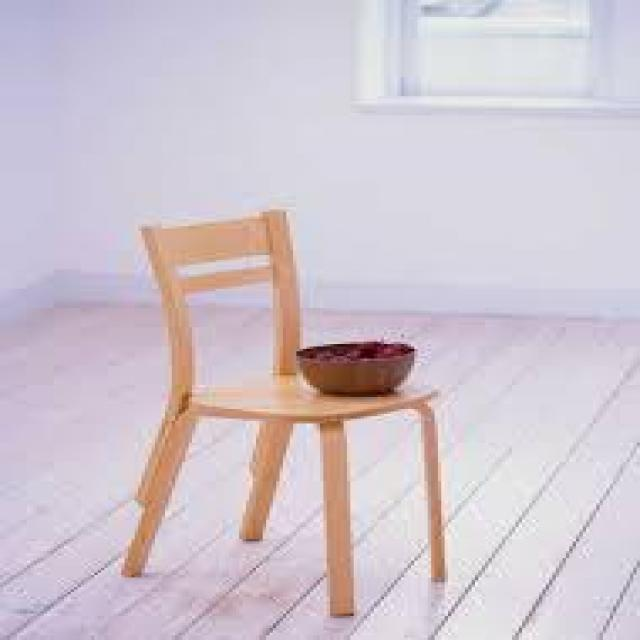chair: (89, 177, 480, 603)
